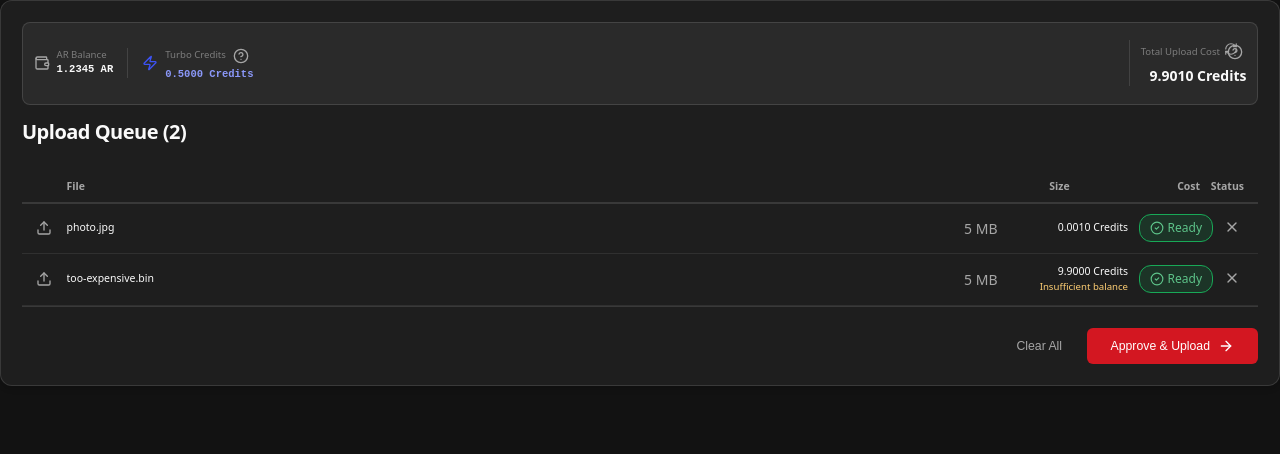
Batch approval semantics (MONEY-6) › balance-blocked rows stay skipped with a visible reason after batch approval
Click the button "Approve & Upload" at coordinates (1172, 346), box 1087,328 -> 1258,364
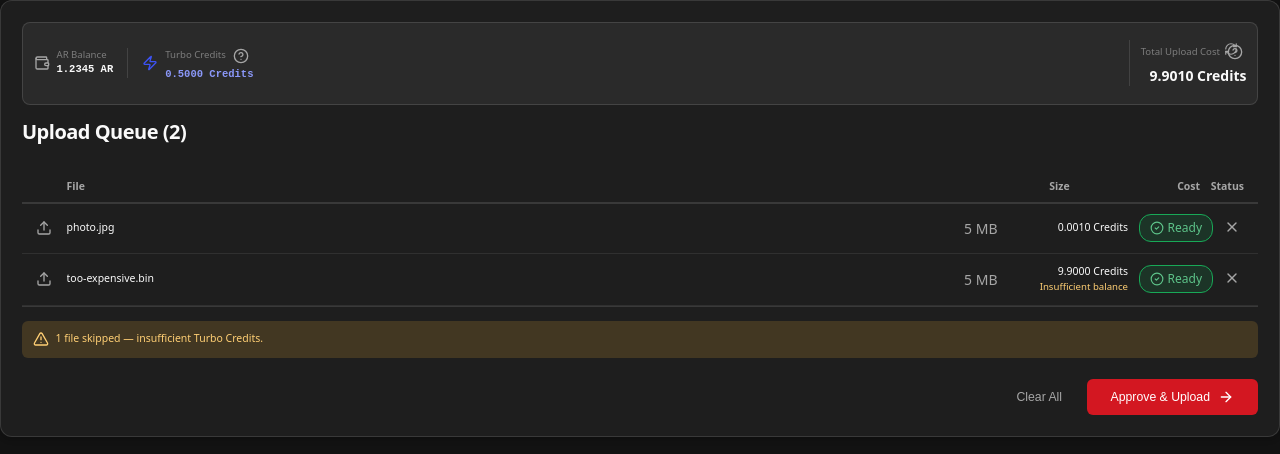
Check: the text "1 file skipped — insufficient Turbo Credits." is shown, box 56,331 -> 263,347
